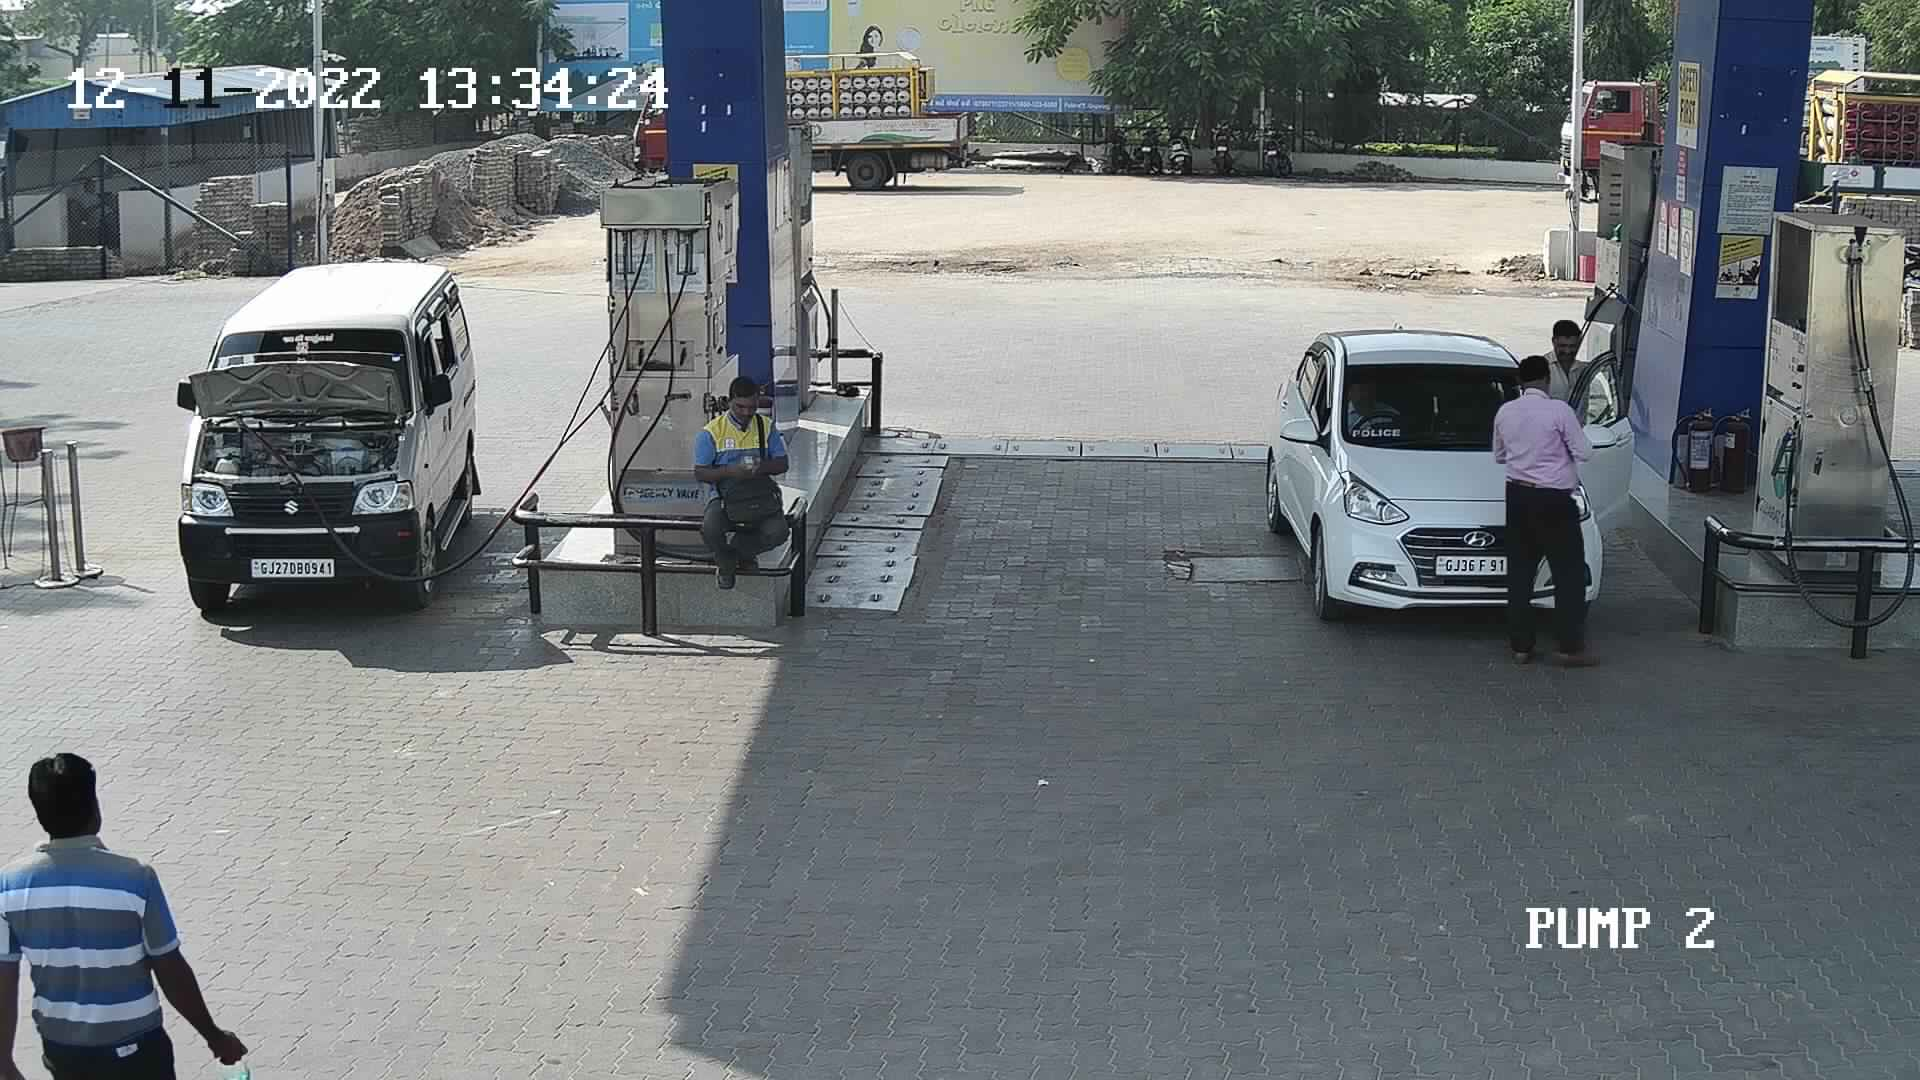Bike: (1249, 109, 1309, 181), (1095, 104, 1145, 177), (1155, 107, 1203, 179), (1200, 102, 1244, 177), (1131, 111, 1164, 175)
Car: (162, 252, 504, 616), (1255, 320, 1642, 636)
HMV: (775, 36, 976, 193), (1545, 66, 1687, 218), (1791, 61, 1917, 222)
Others: (682, 368, 795, 593)
